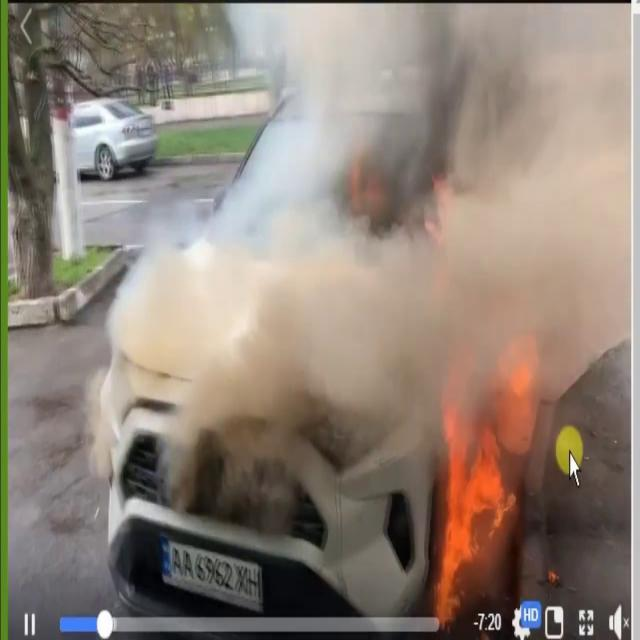Fire: (428, 402, 510, 627)
Smoke: (104, 1, 629, 517)
